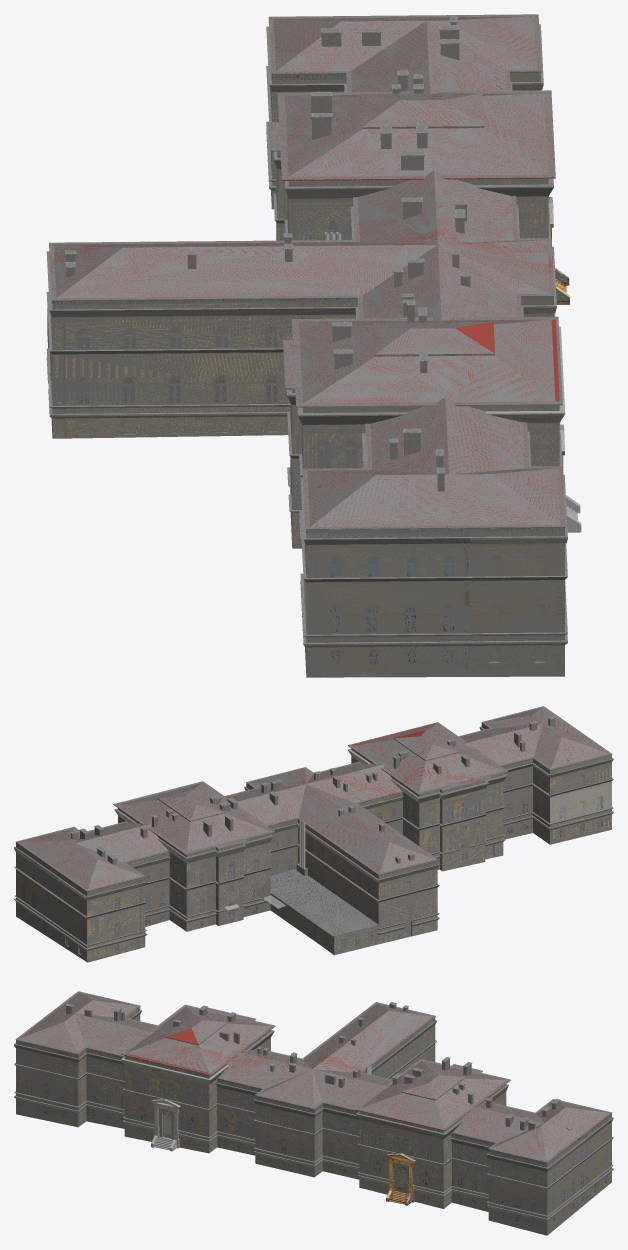
Rendered from gymnazium.glb.
3 renders of one model, top to bottom at view 1: azimuth 30°, elevation 25°; view 2: azimuth 150°, elevation 25°; view 3: azimuth 270°, elevation 25°, orthographic. The views are drawn at different scales.
Parts seen in each view (by area): view 1: material_1, Roofing_Metal_Standing_Seam_Red, stena-juh-telocvične_24, material_2, stena-juh-telocvične_55, stena-juh_58, material_4, stena-juh_8, stena-juh_57, stena-juh_66, stena-bočná-hl.traktu-vpravo-zozadu; view 2: material_1, Roofing_Metal_Standing_Seam_Red, material_2, stena_zadná_veľká_vľavo, stena_zadná_zapustená_1, stena_zadná_veľká_vpravo, stena-zadná-priečelie-ZADNé-celkom-vpravo, strecha-kotolne, stena-juh_4, material_4, stena-severná-telocvične, stena-zadná-priečelie-celkom-vpravo_44 (+1 smaller); view 3: material_1, Roofing_Metal_Standing_Seam_Red, material_2, priečelie-2, priečelie-1, stena-predna-posunuta_1, stena-lava-predna, stena-lava-predna-okna-stvorcove_1, stena-juh_4, material_4, stena-predna-posunuta_3, stena-lava-predna_26.
Part boxes in pixels (bbox=[...]): material_1: bbox=[46, 14, 567, 677]; Roofing_Metal_Standing_Seam_Red: bbox=[49, 14, 564, 528]; stena-juh-telocvične_24: bbox=[52, 298, 357, 438]; material_2: bbox=[47, 25, 581, 643]; stena-juh-telocvične_55: bbox=[52, 352, 288, 405]; stena-juh_58: bbox=[306, 581, 469, 634]; material_4: bbox=[66, 23, 469, 490]; stena-juh_8: bbox=[306, 543, 469, 577]; stena-juh_57: bbox=[469, 580, 564, 632]; stena-juh_66: bbox=[306, 646, 469, 671]; stena-bočná-hl.traktu-vpravo-zozadu: bbox=[303, 407, 411, 468]; material_1: bbox=[14, 706, 613, 962]; Roofing_Metal_Standing_Seam_Red: bbox=[18, 707, 611, 890]; material_2: bbox=[15, 748, 612, 947]; stena_zadná_veľká_vľavo: bbox=[186, 834, 270, 931]; stena_zadná_zapustená_1: bbox=[130, 760, 532, 923]; stena_zadná_veľká_vpravo: bbox=[398, 774, 503, 870]; stena-zadná-priečelie-ZADNé-celkom-vpravo: bbox=[550, 765, 611, 842]; strecha-kotolne: bbox=[271, 869, 376, 934]; stena-juh_4: bbox=[16, 843, 86, 960]; material_4: bbox=[71, 718, 555, 863]; stena-severná-telocvične: bbox=[298, 820, 378, 921]; stena-zadná-priečelie-celkom-vpravo_44: bbox=[87, 906, 144, 944]; material_1: bbox=[14, 991, 613, 1235]; Roofing_Metal_Standing_Seam_Red: bbox=[17, 992, 610, 1161]; material_2: bbox=[16, 1013, 612, 1219]; priečelie-2: bbox=[359, 1121, 443, 1206]; priečelie-1: bbox=[122, 1060, 442, 1189]; stena-predna-posunuta_1: bbox=[86, 1049, 493, 1207]; stena-lava-predna: bbox=[488, 1150, 547, 1231]; stena-lava-predna-okna-stvorcove_1: bbox=[255, 1105, 314, 1176]; stena-juh_4: bbox=[547, 1117, 611, 1199]; material_4: bbox=[66, 1005, 559, 1130]; stena-predna-posunuta_3: bbox=[322, 1112, 359, 1161]; stena-lava-predna_26: bbox=[16, 1067, 78, 1104].
Bounding box in the file's own units: 70.06 × 19.29 × 103.
Materials: 123 (110 with a texture image).
